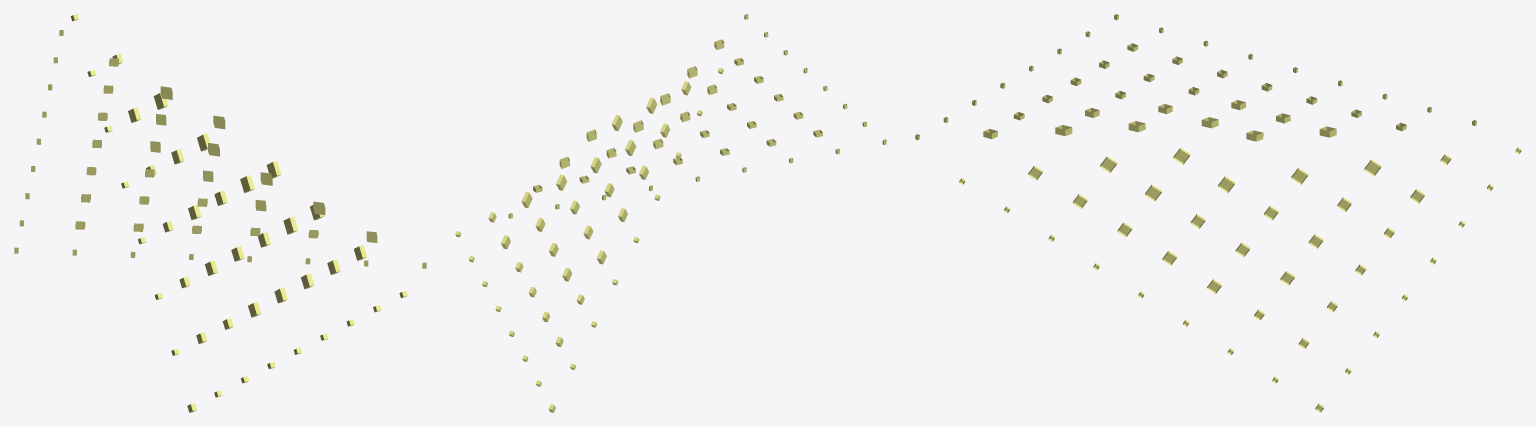
File: EC_LED.FBX
3 views of the same model, side by side, from view 1: azimuth 30°, elevation 25°; view 2: azimuth 150°, elevation 25°; view 3: azimuth 270°, elevation 25° (orthographic). The views are drawn at different scales.
Visible parts, largest first — view 1: EC_LED; view 2: EC_LED; view 3: EC_LED.
Boxes of the visible parts, x1,y1,x2,y2 form: EC_LED: (14,14,426,412); EC_LED: (455,14,886,412); EC_LED: (915,14,1521,412).
Size of the model in its own units: 2678 by 2762 by 5521.
